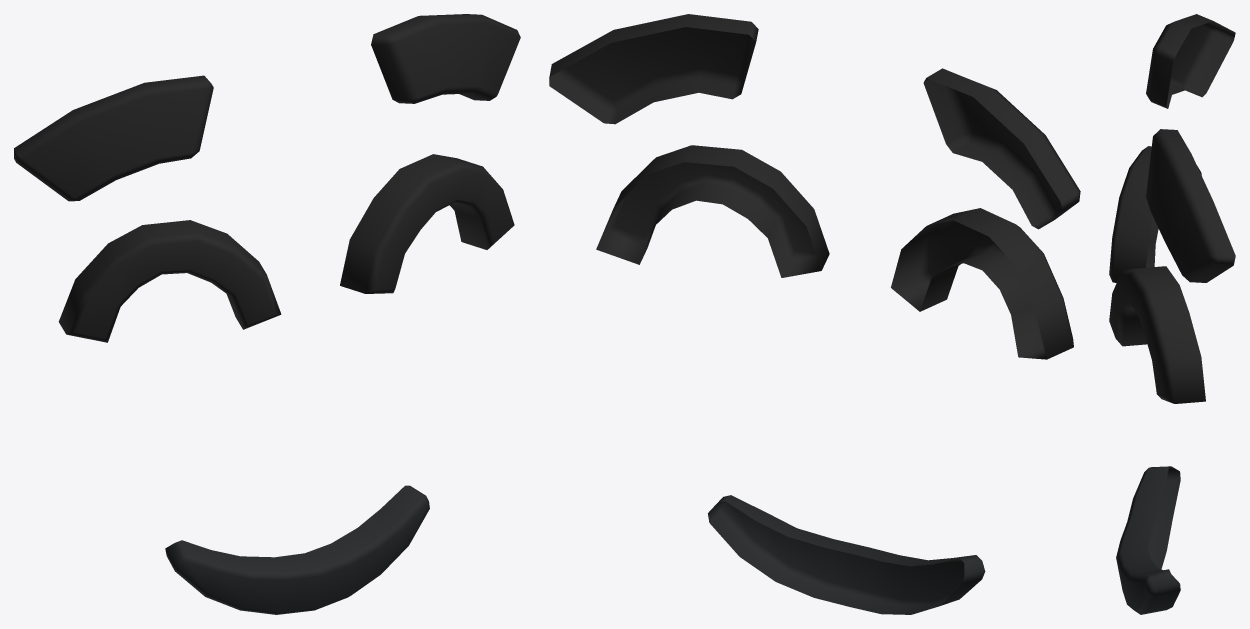
The model's file is male_emotions_happy_002.glb.
The picture shows the model from 3 angles, left to right: view 1: azimuth 30°, elevation 25°; view 2: azimuth 150°, elevation 25°; view 3: azimuth 270°, elevation 25°; orthographic projection. The views are drawn at different scales.
Visible parts, largest first — view 1: Male_emotion_happy_002; view 2: Male_emotion_happy_002; view 3: Male_emotion_happy_002.
Part boxes in pixels (box(x1,y1,x2,y2)): Male_emotion_happy_002: box(14, 14, 520, 614); Male_emotion_happy_002: box(549, 14, 1080, 614); Male_emotion_happy_002: box(1109, 14, 1235, 614).
Size of the model in its own units: 0.1458 by 0.1498 by 0.0339.
1 material, 1 textured.
